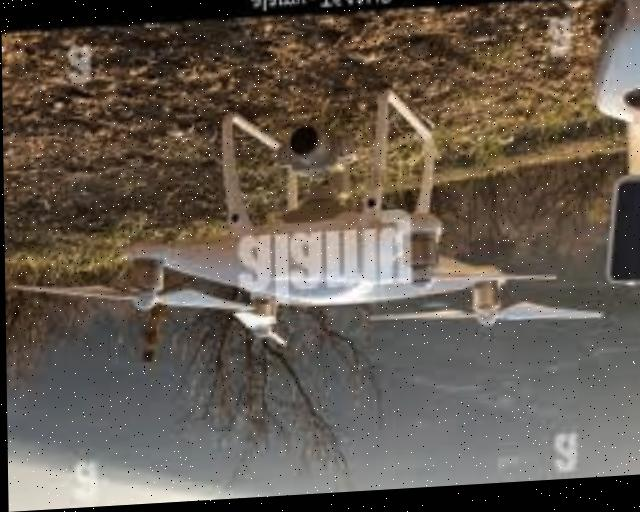drone: (18, 84, 606, 381)
